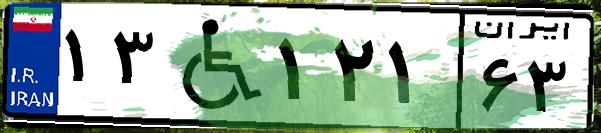1: (270, 28, 330, 110), (385, 28, 445, 110), (57, 26, 110, 100)
2: (330, 28, 385, 110)
3: (525, 38, 570, 115), (110, 28, 158, 98)
6: (475, 38, 525, 113)
ژ (معلولین و جانبازان): (158, 12, 270, 120)
